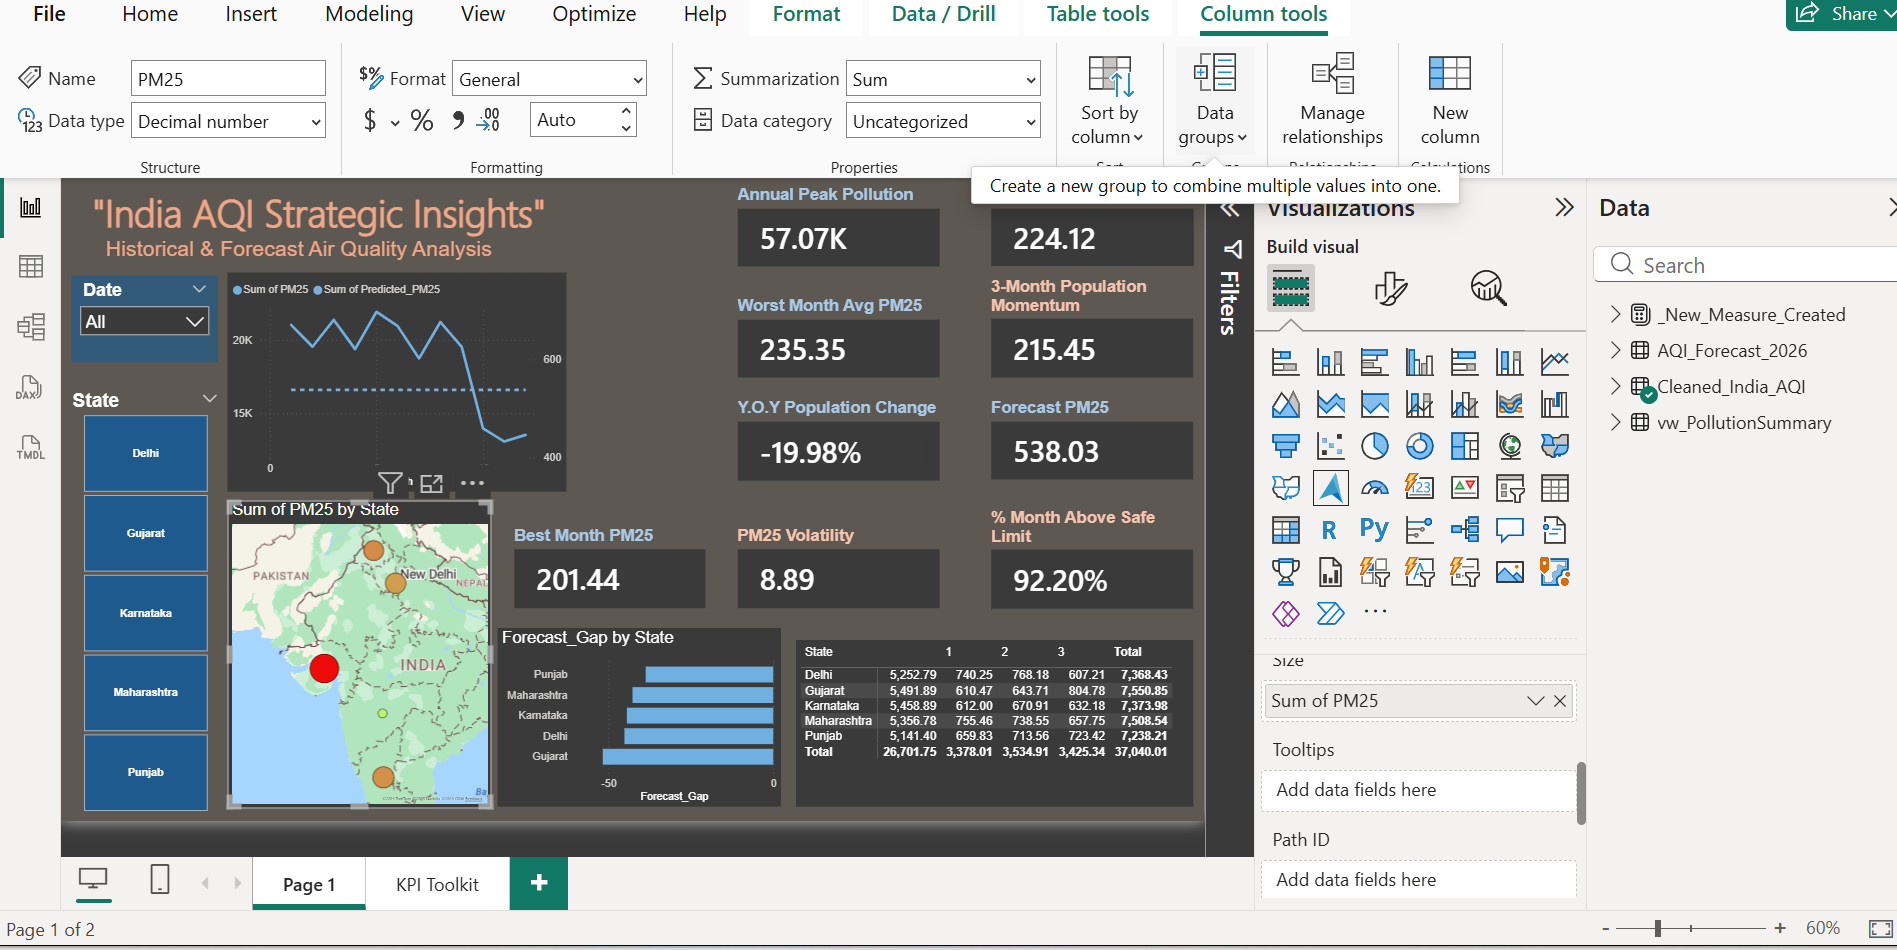

The dashboard page shown, as its layout file describes it:
{"tool":"powerbi","page":{"name":"Page 1","canvas":[1280,720],"ordinal":0},"visuals":[{"type":"cardVisual","title":"Annual Peak Pollution","fields":{"Data":["Sum(vw_PollutionSummary.Peak_Pollution)"]},"box":[752.2,8.4,236.7,95.7],"z":0},{"type":"cardVisual","title":"Forecast PM25","fields":{"Data":["Sum(AQI_Forecast_2026.Predicted_PM25)"]},"box":[1036,246.8,236.7,95.7],"z":1000},{"type":"cardVisual","title":"Current Avg PM25","fields":{"Data":["Avg(Cleaned_India_AQI.PM25)"]},"box":[1035.7,8,237.4,95.6],"z":2000},{"type":"lineChart","fields":{"Category":["Cleaned_India_AQI.Month"],"Y":["Sum(Cleaned_India_AQI.PM25)"],"Y2":["Sum(AQI_Forecast_2026.Predicted_PM25)"]},"box":[186.4,105.8,379.5,245.1],"z":3000},{"type":"azureMap","fields":{"Category":["Cleaned_India_AQI.State"],"Size":["Sum(Cleaned_India_AQI.PM25)"]},"box":[186.4,361,295.5,344.2],"z":4000},{"type":"slicer","fields":{"Values":["Cleaned_India_AQI.Date"]},"box":[11.1,109.8,163.8,97],"z":5000},{"type":"cardVisual","title":"Y.O.Y Population Change","fields":{"Data":["AQI_Forecast_2026.Pollution Delta"]},"box":[752.2,246.8,236.7,97.4],"z":6000},{"type":"textbox","box":[23.9,8,541.7,113.1],"z":7000},{"type":"slicer","fields":{"Values":["Cleaned_India_AQI.State"]},"box":[0,232.2,187.7,483.5],"z":8000},{"type":"cardVisual","title":"Worst Month Avg PM25","fields":{"Data":["AQI_Forecast_2026.Worst_Month_PM25"]},"box":[752.2,132.6,236.7,95.7],"z":9000},{"type":"cardVisual","title":"Best Month PM25","fields":{"Data":["AQI_Forecast_2026.Best_Month_PM25"]},"box":[502,389.5,225,97.4],"z":10000},{"type":"cardVisual","title":"PM25 Volatility","fields":{"Data":["AQI_Forecast_2026.PM25_Volatility"]},"box":[752.2,389.5,236.7,97.4],"z":11000},{"type":"cardVisual","title":"% Month Above Safe Limit","fields":{"Data":["AQI_Forecast_2026.Pct_Months_Unsafe"]},"box":[1036,369.4,236.7,117.5],"z":12000},{"type":"pivotTable","fields":{"Columns":["AQI_Forecast_2026.Month"],"Rows":["vw_PollutionSummary.State"],"Values":["Sum(vw_PollutionSummary.Monthly_Avg_PM25)"]},"box":[822.7,517.2,445,186.4],"z":13000},{"type":"barChart","fields":{"Y":["_New_Measure_Created.Forecast_Gap"],"Category":["Cleaned_India_AQI.State"]},"box":[488.6,503.7,317.3,199.8],"z":14000},{"type":"cardVisual","title":"3-Month Population Momentum","fields":{"Data":["_New_Measure_Created.Pollution_Momentum"]},"box":[1036,110.8,236.7,117.5],"z":15000}]}

Visuals, with their boxes on the page's 1280x720 design canvas (x1, y1, x2, y2). These are canvas units, not pixel positions in the 1897x950 screenshot, which may show the page scaled, cropped or inside an application window:
"Annual Peak Pollution" cardVisual: x1=752, y1=8, x2=989, y2=104
"Forecast PM25" cardVisual: x1=1036, y1=247, x2=1273, y2=342
"Current Avg PM25" cardVisual: x1=1036, y1=8, x2=1273, y2=104
lineChart - Cleaned_India_AQI.Month x Sum(Cleaned_India_AQI.PM25): x1=186, y1=106, x2=566, y2=351
azureMap - Cleaned_India_AQI.State x Sum(Cleaned_India_AQI.PM25): x1=186, y1=361, x2=482, y2=705
slicer - Cleaned_India_AQI.Date: x1=11, y1=110, x2=175, y2=207
"Y.O.Y Population Change" cardVisual: x1=752, y1=247, x2=989, y2=344
textbox: x1=24, y1=8, x2=566, y2=121
slicer - Cleaned_India_AQI.State: x1=0, y1=232, x2=188, y2=716
"Worst Month Avg PM25" cardVisual: x1=752, y1=133, x2=989, y2=228
"Best Month PM25" cardVisual: x1=502, y1=390, x2=727, y2=487
"PM25 Volatility" cardVisual: x1=752, y1=390, x2=989, y2=487
"% Month Above Safe Limit" cardVisual: x1=1036, y1=369, x2=1273, y2=487
pivotTable - AQI_Forecast_2026.Month x vw_PollutionSummary.State: x1=823, y1=517, x2=1268, y2=704
barChart - _New_Measure_Created.Forecast_Gap x Cleaned_India_AQI.State: x1=489, y1=504, x2=806, y2=704
"3-Month Population Momentum" cardVisual: x1=1036, y1=111, x2=1273, y2=228
